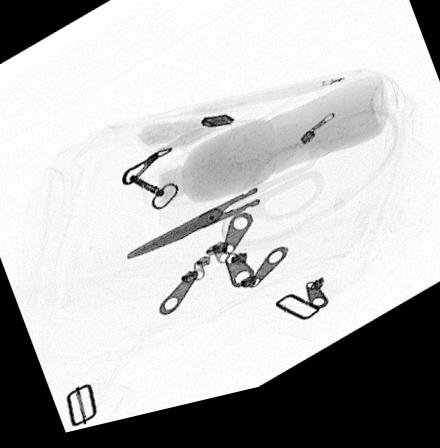Scissors: (118, 152, 326, 269)
